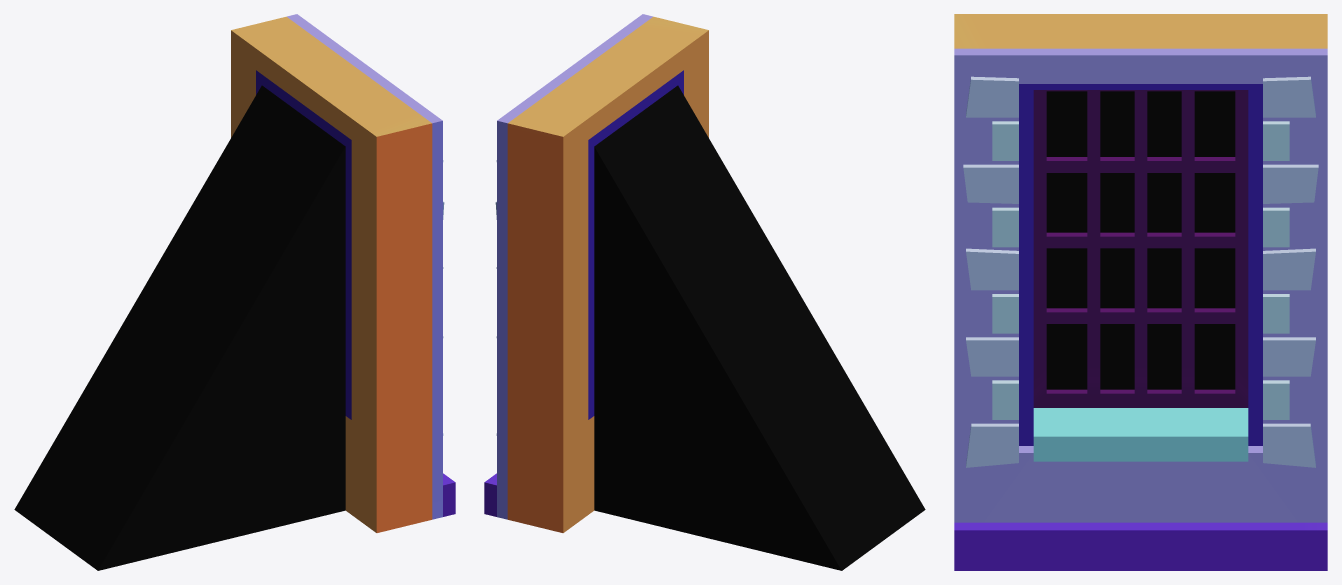
File: window_01.fbx
The picture shows the model from 3 angles, left to right: view 1: azimuth 30°, elevation 25°; view 2: azimuth 150°, elevation 25°; view 3: azimuth 270°, elevation 25°; orthographic projection. The views are drawn at different scales.
Visible parts, largest first — view 1: window_01; view 2: window_01; view 3: window_01.
Boxes of the visible parts, x1=… form: window_01: x1=14, y1=14, x2=455, y2=570; window_01: x1=484, y1=14, x2=925, y2=570; window_01: x1=954, y1=14, x2=1327, y2=570.
Bounding box in the file's own units: 130 × 150 × 100.
2 materials, 1 textured.
